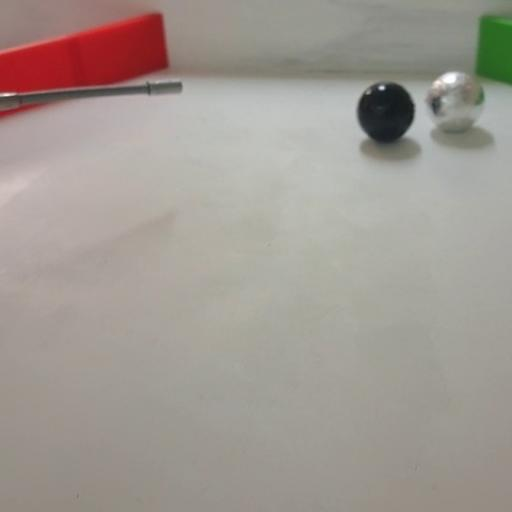alive: (424, 70, 487, 133)
dead: (354, 80, 417, 144)
